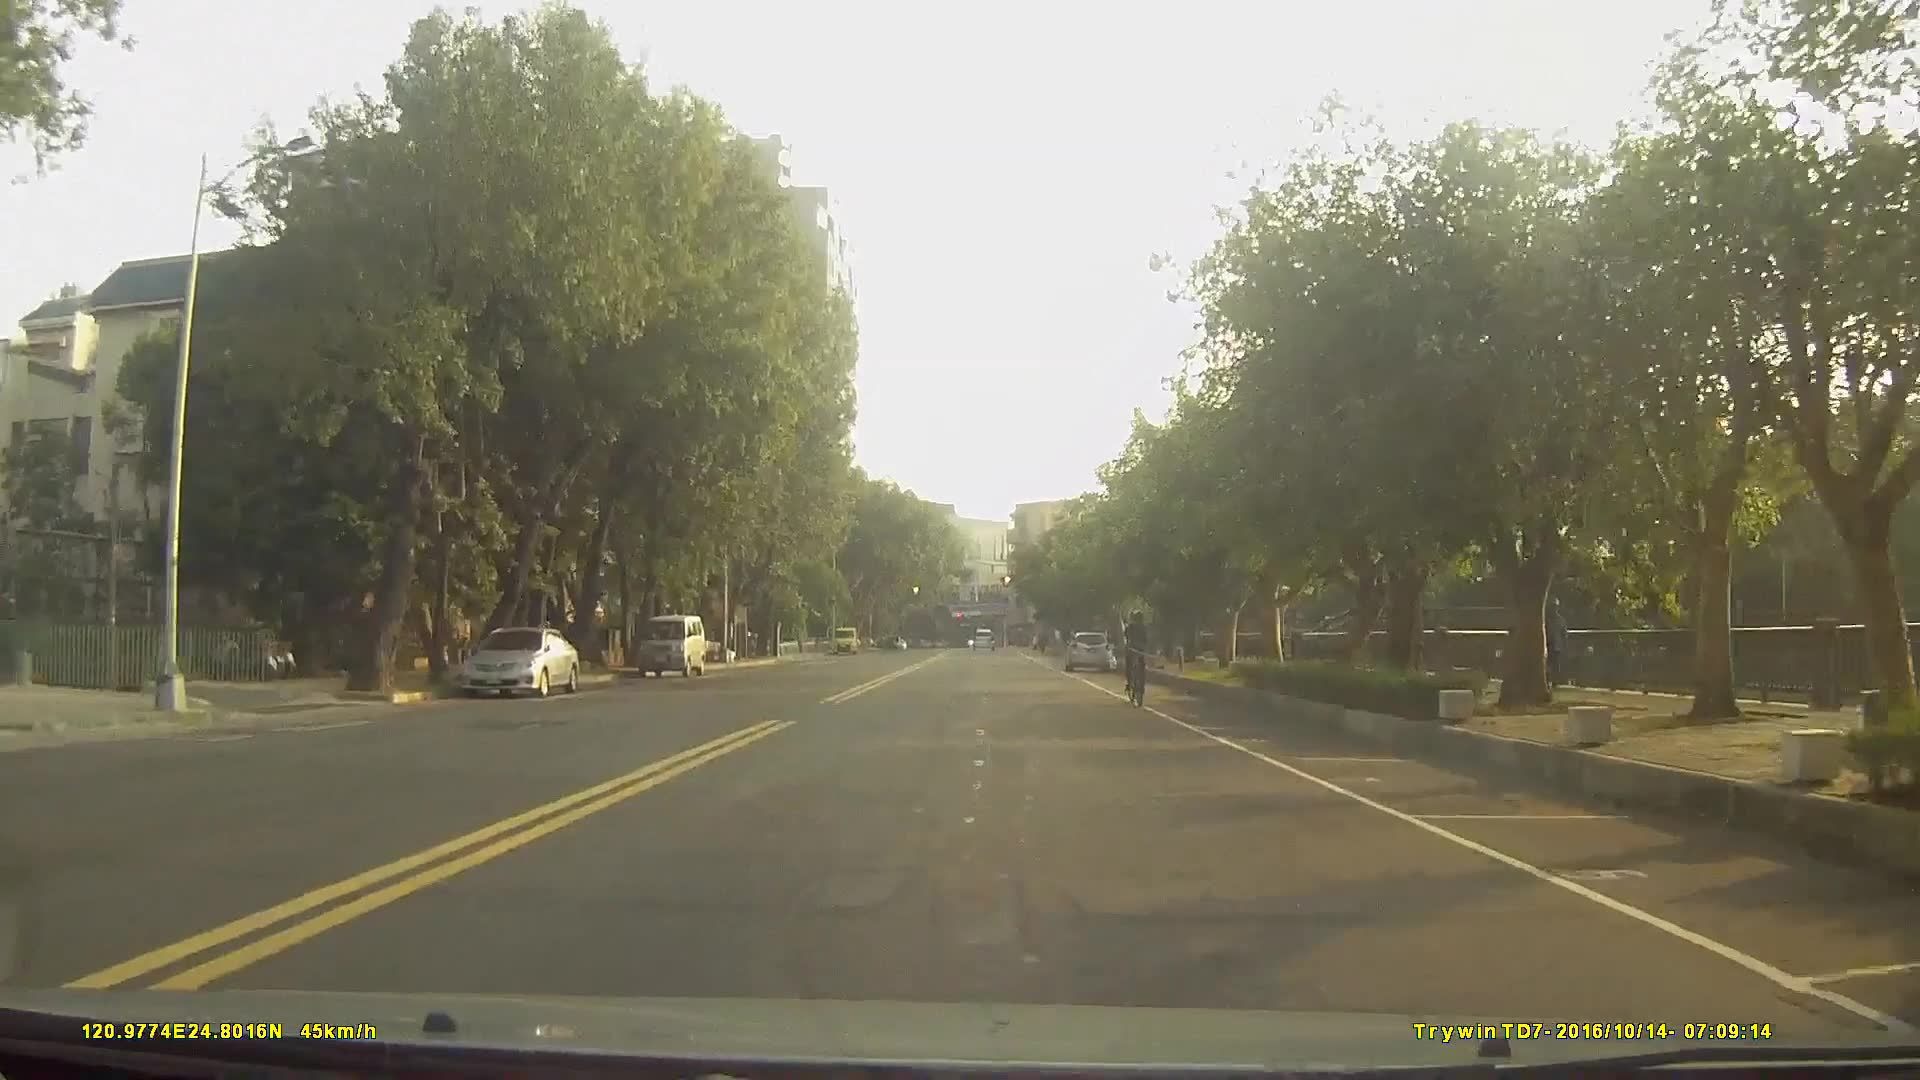rider: (1119, 613, 1154, 712)
vehicle: (455, 626, 577, 699), (634, 613, 707, 679), (1062, 630, 1112, 672), (970, 626, 995, 652)
